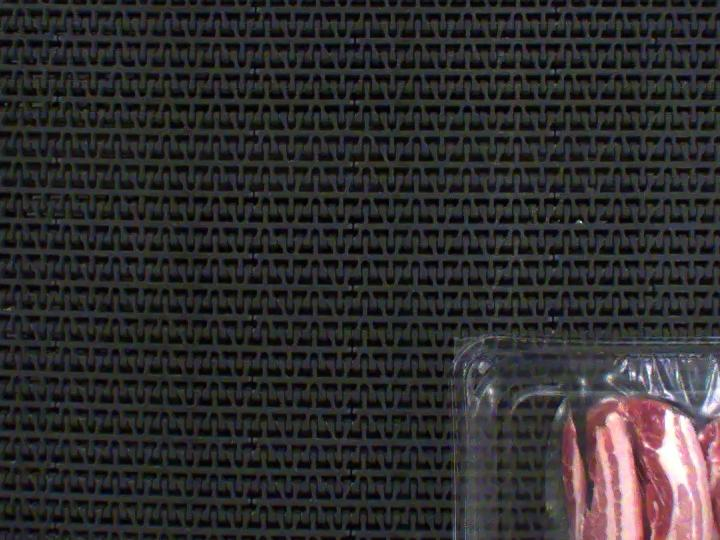unsealed: (488, 328, 720, 540)
